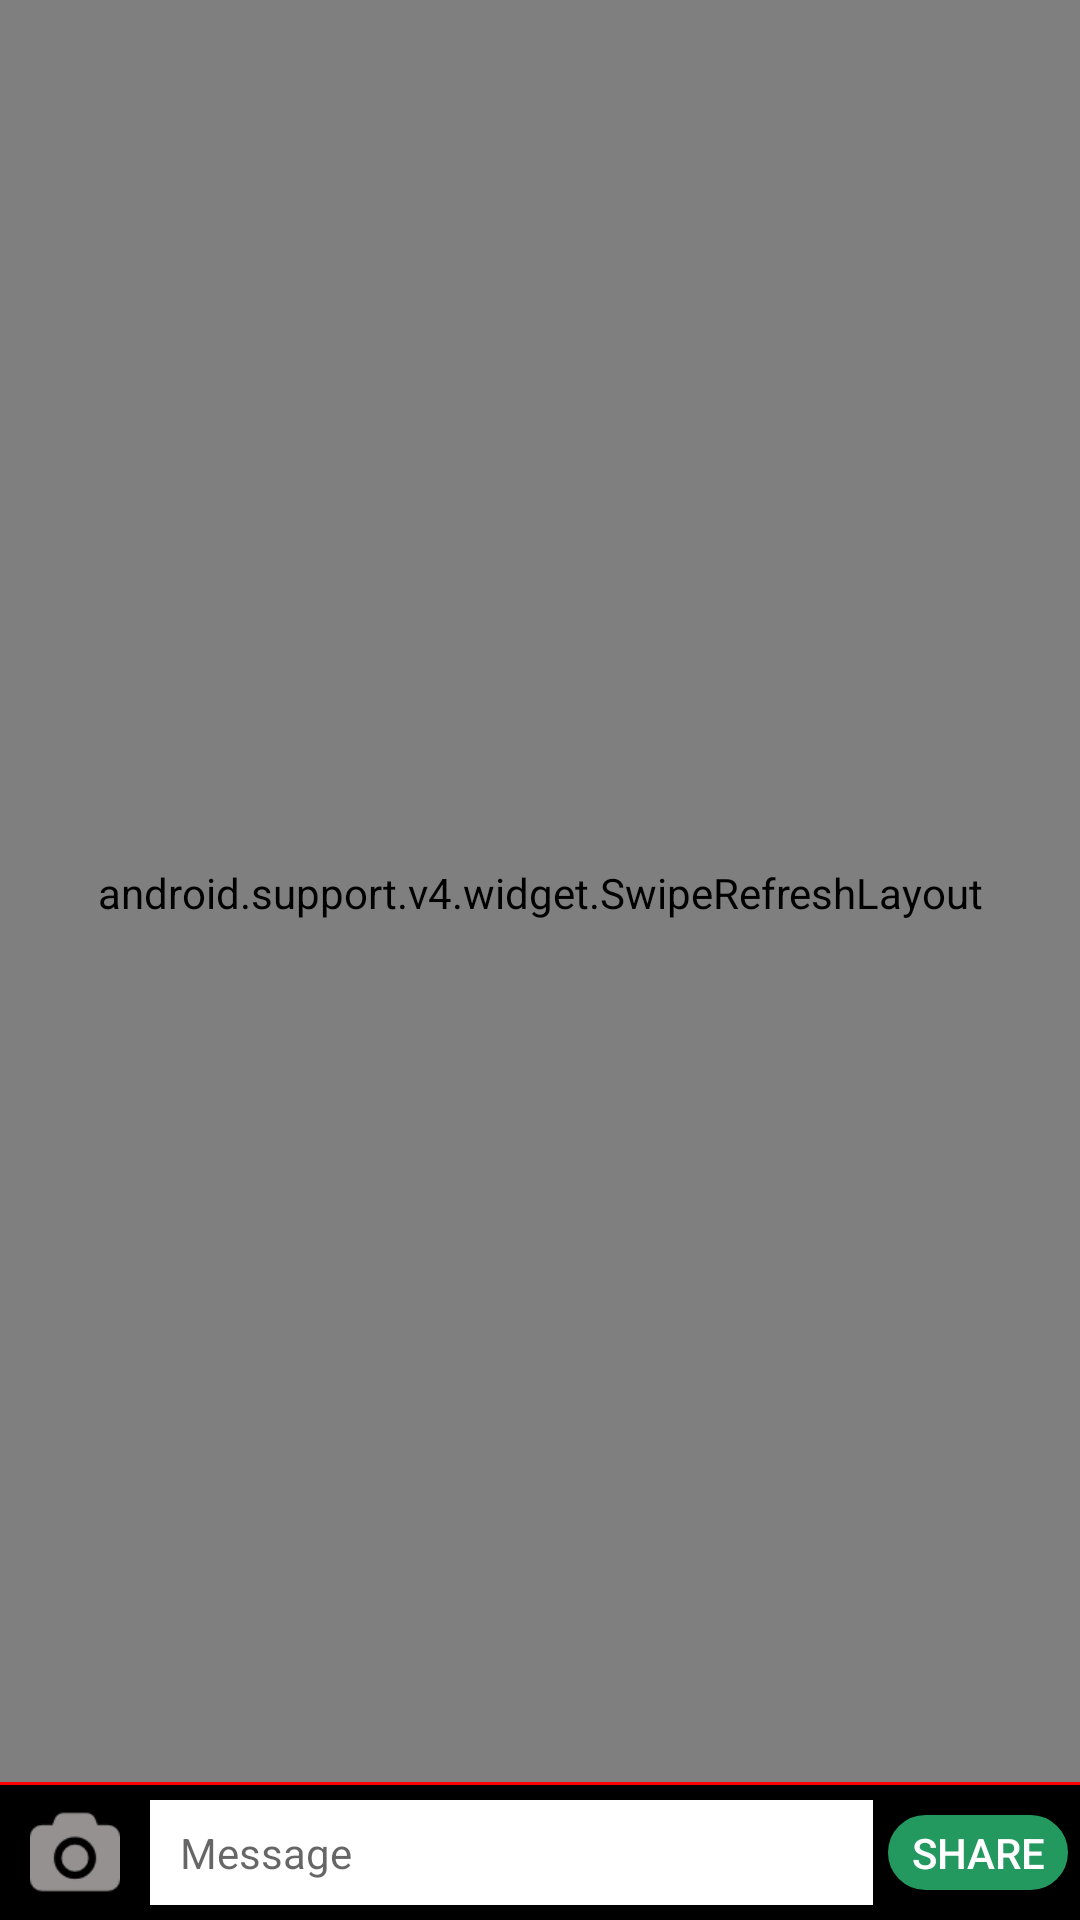

Icons on this 1080 x 1920 Android screen, each with its box as (x1,y1,x2,y2):
camera: (30,1812,120,1892)
